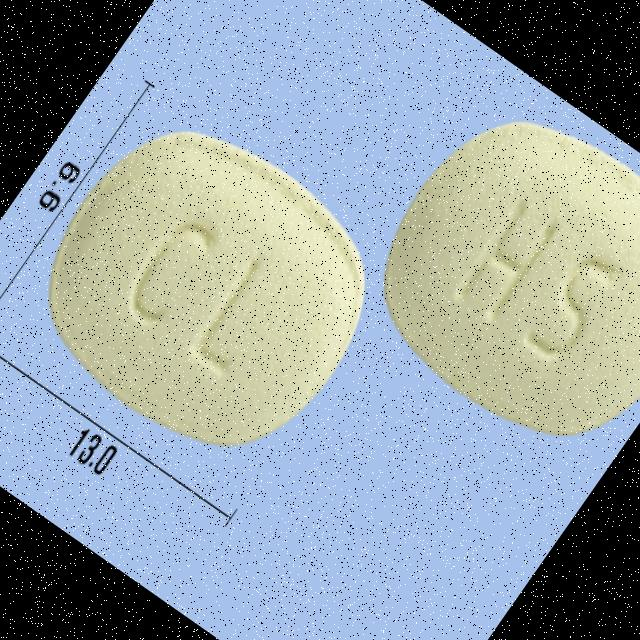Clithro - 500mg: (0, 83, 415, 496), (336, 73, 640, 480)
